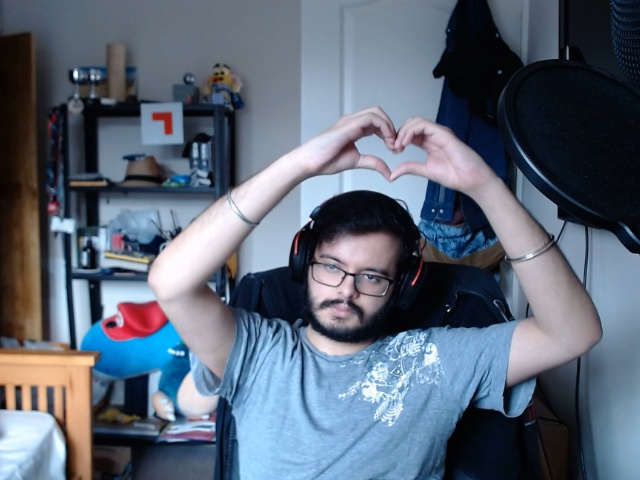Heart: (290, 102, 488, 191)
